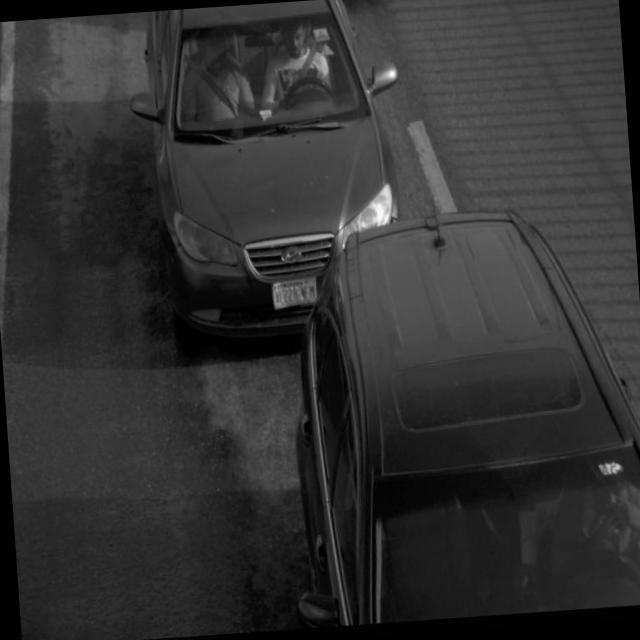person_with_seatbelt: (264, 8, 352, 132)
